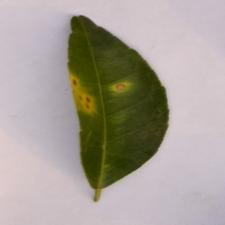Canker: (56, 58, 145, 126)
